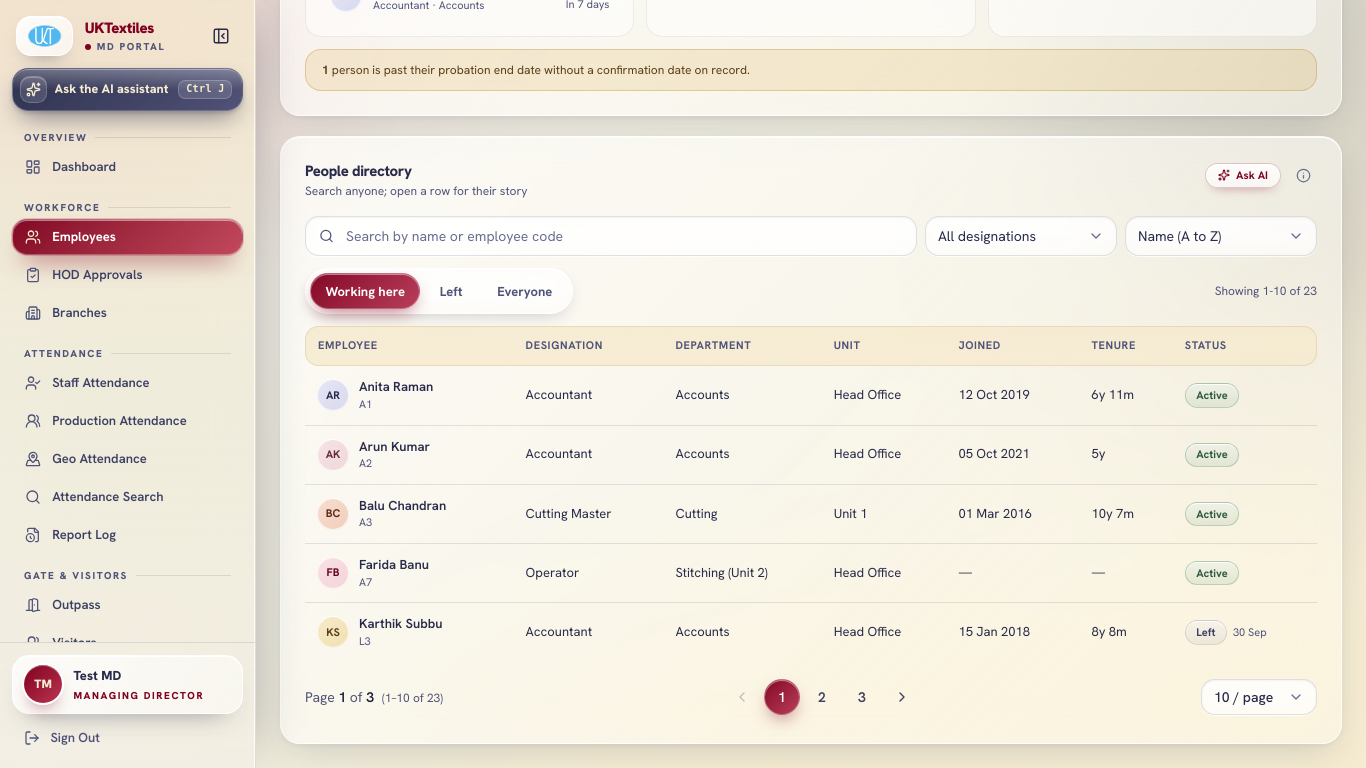
MdEmployees › says so when one person cannot be loaded
The image size is (1366, 768).
(page scrolled)
What coordinates should you click on to do the following:
click the row with test id "row-1"
I would click on:
 (811, 396)
Its box is [305, 366, 1317, 426].
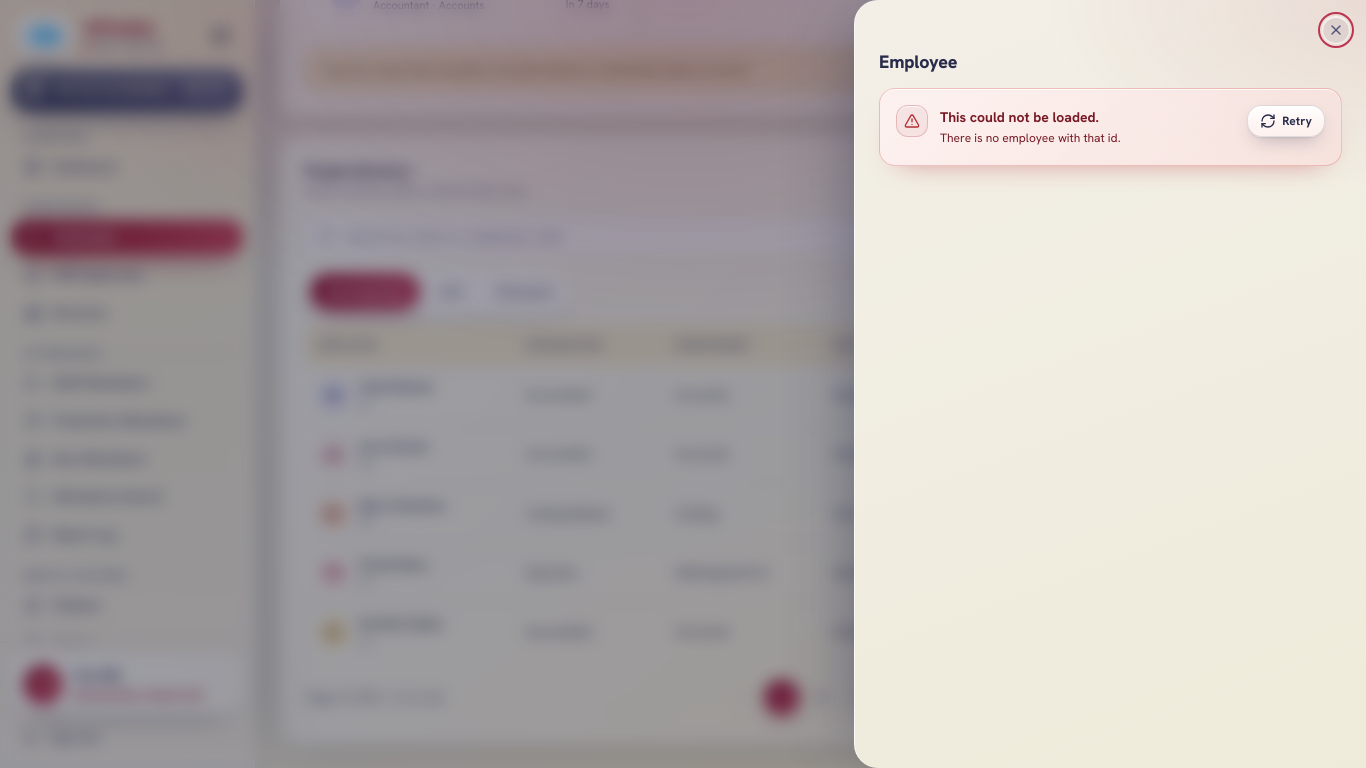
Now the text "This could not be loaded." is shown, box [940, 108, 1099, 126]
Now the text "There is no employee with that id." is shown, box [940, 130, 1120, 146]
